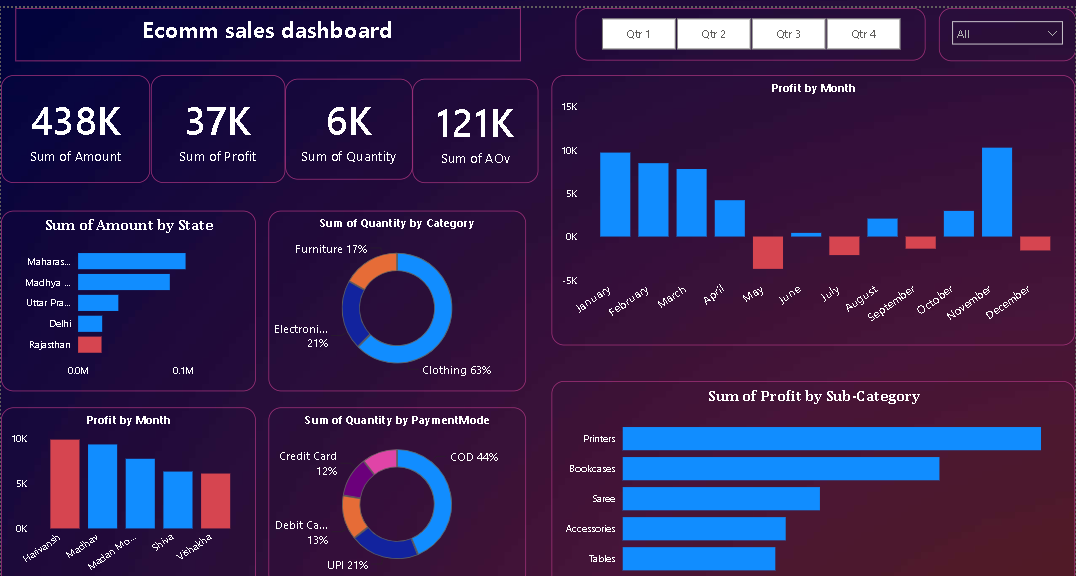

The dashboard page shown, as its layout file describes it:
{"tool":"powerbi","page":{"name":"Page 1","canvas":[1280,720],"ordinal":0},"visuals":[{"type":"textbox","box":[16.7,0,601.7,63.3],"z":0},{"type":"columnChart","title":"Profit by Month","fields":{"Y":["Sum(Details.Profit)"],"Category":["Orders.Order Date.Variation.Date Hierarchy.Month"]},"box":[656,80,624,322],"z":1000},{"type":"barChart","fields":{"Category":["Details.Sub-Category"],"Y":["Sum(Details.Profit)"]},"box":[656,444,624,276],"z":2000},{"type":"donutChart","fields":{"Category":["Details.Category"],"Y":["Sum(Details.Quantity)"]},"box":[318.3,241.7,306.7,215],"z":3000},{"type":"donutChart","fields":{"Category":["Details.PaymentMode"],"Y":["Sum(Details.Quantity)"]},"box":[318.3,475,306.7,213.3],"z":4000},{"type":"cardVisual","fields":{"Data":["Sum(Details.Amount)"]},"box":[0,80,178,128],"z":5000},{"type":"cardVisual","fields":{"Data":["Sum(Details.Profit)"]},"box":[178,80,160,128],"z":5001},{"type":"cardVisual","fields":{"Data":["Sum(Details.Quantity)"]},"box":[338,84,152,120],"z":5002},{"type":"cardVisual","fields":{"Data":["Sum(Details.AOv)"]},"box":[490,84,150,124],"z":5003},{"type":"barChart","fields":{"Category":["Orders.State"],"Y":["Sum(Details.Amount)"]},"box":[0,241.7,303.3,215],"z":5004},{"type":"columnChart","title":"Profit by Month","fields":{"Category":["Orders.CustomerName"],"Y":["Sum(Details.Amount)"]},"box":[0,475,303.3,213.3],"z":5005},{"type":"slicer","fields":{"Values":["Orders.Order Date.Variation.Date Hierarchy.Quarter"]},"box":[668.3,0,433.3,68.3],"z":5006},{"type":"slicer","fields":{"Values":["Orders.State"]},"box":[1116.7,0,163.3,63.3],"z":5007}]}

Visuals, with their boxes on the page's 1280x720 design canvas (x1, y1, x2, y2). These are canvas units, not pixel positions in the 1076x576 screenshot, which may show the page scaled, cropped or inside an application window:
textbox: bbox=(17, 0, 618, 63)
"Profit by Month" columnChart: bbox=(656, 80, 1280, 402)
barChart - Details.Sub-Category x Sum(Details.Profit): bbox=(656, 444, 1280, 720)
donutChart - Details.Category x Sum(Details.Quantity): bbox=(318, 242, 625, 457)
donutChart - Details.PaymentMode x Sum(Details.Quantity): bbox=(318, 475, 625, 688)
cardVisual - Sum(Details.Amount): bbox=(0, 80, 178, 208)
cardVisual - Sum(Details.Profit): bbox=(178, 80, 338, 208)
cardVisual - Sum(Details.Quantity): bbox=(338, 84, 490, 204)
cardVisual - Sum(Details.AOv): bbox=(490, 84, 640, 208)
barChart - Orders.State x Sum(Details.Amount): bbox=(0, 242, 303, 457)
"Profit by Month" columnChart: bbox=(0, 475, 303, 688)
slicer - Orders.Order Date.Variation.Date Hierarchy.Quarter: bbox=(668, 0, 1102, 68)
slicer - Orders.State: bbox=(1117, 0, 1280, 63)
